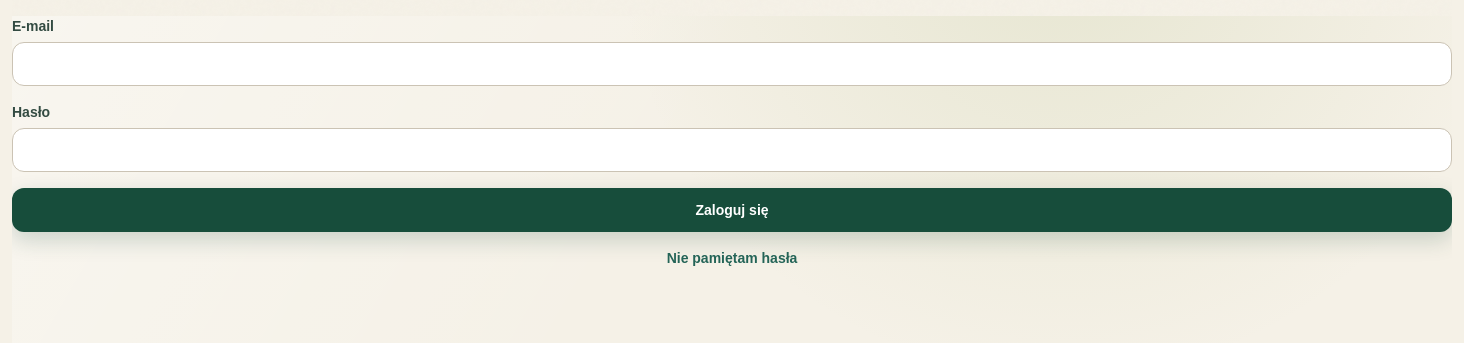
it: LoginForm › pokazuje bezpieczny komunikat przy odrzuceniu danych
The width and height of the screenshot is (1464, 343).
Step 1. Type "konto@example.com" into the field labelled "E-mail" → (732, 64), box x1=12 y1=42 x2=1452 y2=86
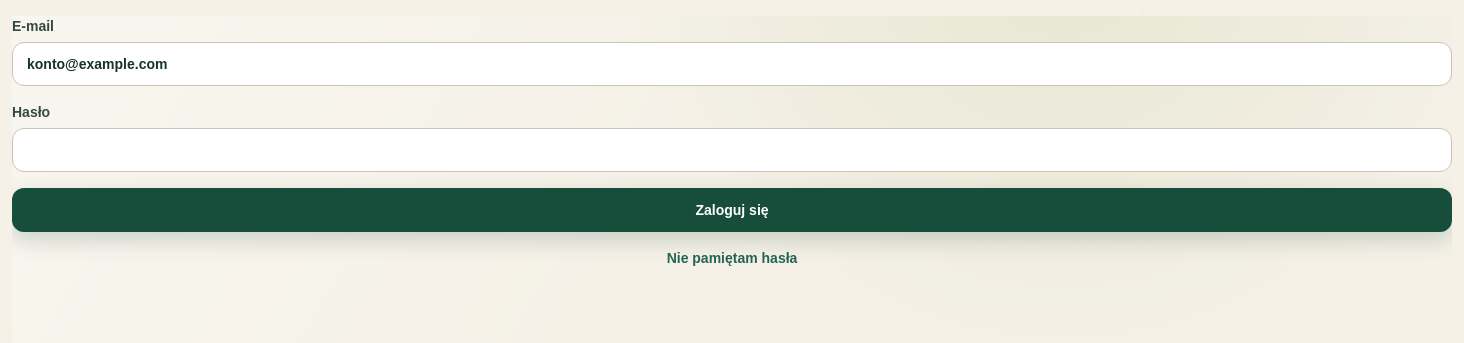
Step 2. Type "bezpieczne-haslo" into the password field labelled "Hasło" → (732, 150), box x1=12 y1=128 x2=1452 y2=172
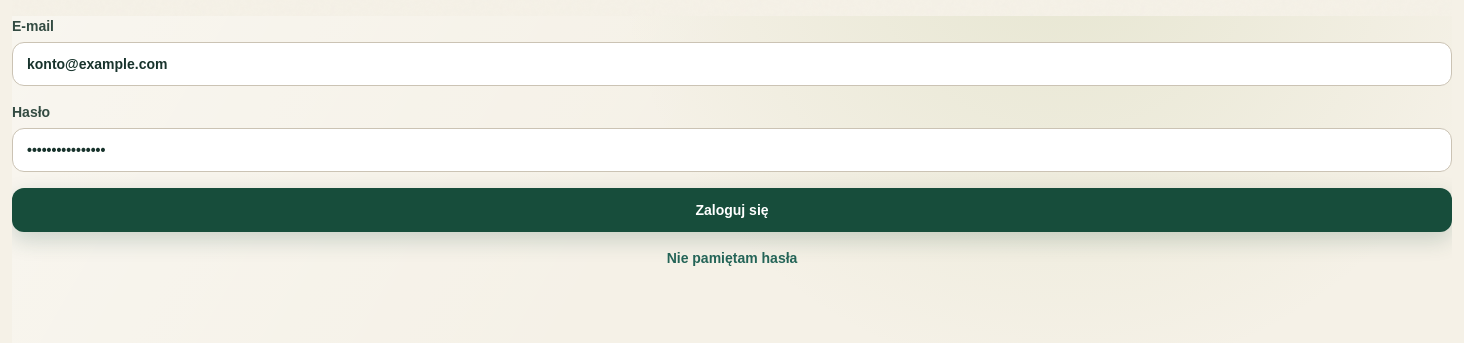
Step 3. Click the button "Zaloguj się" → (732, 210), box x1=12 y1=188 x2=1452 y2=232
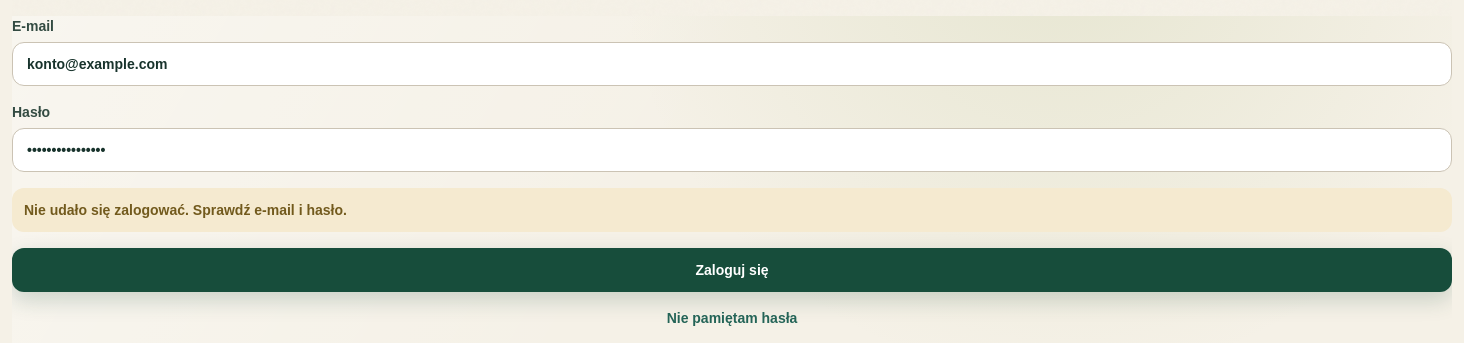
Check: the text "Nie udało się zalogować. Sprawdź e-mail i hasło." is shown, box x1=12 y1=188 x2=1452 y2=232
